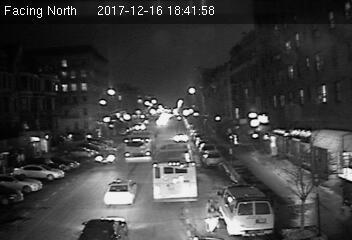bus: (153, 142, 199, 205), (123, 131, 157, 164)
car: (104, 178, 140, 208), (95, 148, 118, 165), (201, 150, 223, 167)
police: (216, 182, 274, 236)
